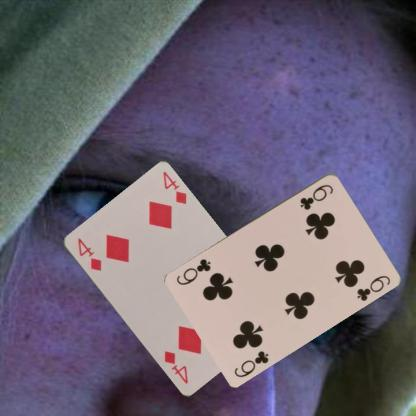4d: (74, 235, 103, 273)
6c: (297, 181, 335, 211), (232, 348, 270, 378)
